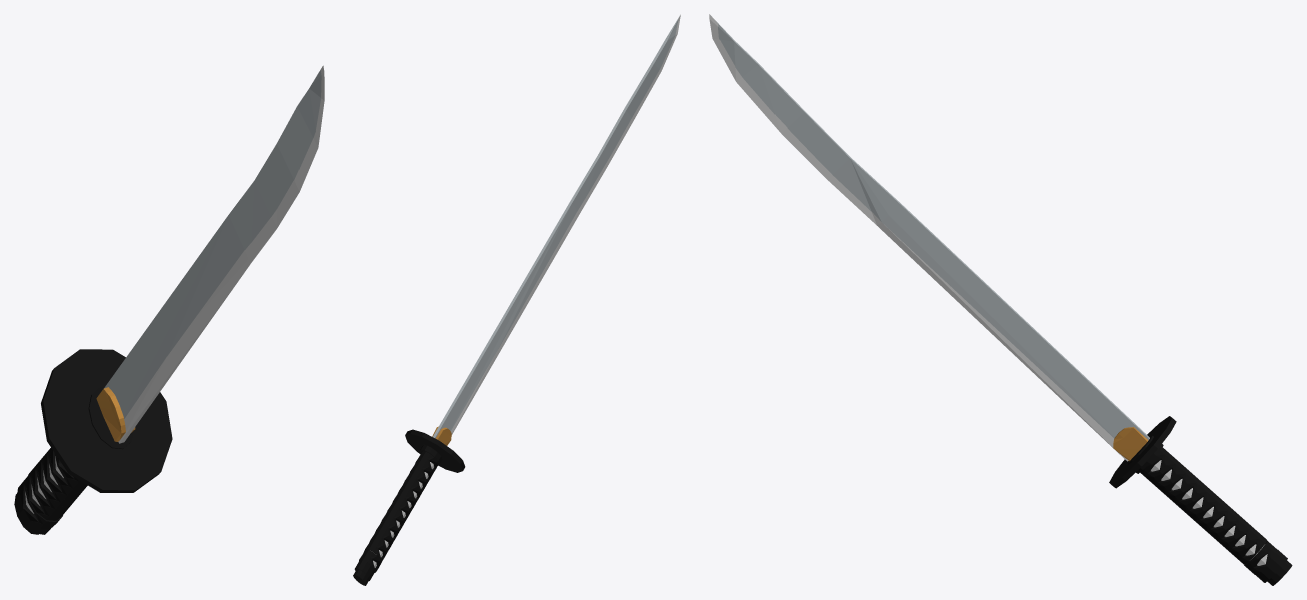
3 renders of one model, left to right at view 1: azimuth 30°, elevation 25°; view 2: azimuth 150°, elevation 25°; view 3: azimuth 270°, elevation 25°, orthographic. The views are drawn at different scales.
Visible parts, largest first — view 1: node_MeshObject-1255599040-PolyPaper21; view 2: node_MeshObject-1255599040-PolyPaper21; view 3: node_MeshObject-1255599040-PolyPaper21.
Part boxes in pixels (x1,y1,x2,y2): node_MeshObject-1255599040-PolyPaper21: [14, 65, 324, 534]; node_MeshObject-1255599040-PolyPaper21: [353, 14, 680, 585]; node_MeshObject-1255599040-PolyPaper21: [709, 14, 1292, 585].
Size of the model in its own units: 0.7724 by 3.23 by 3.29.
